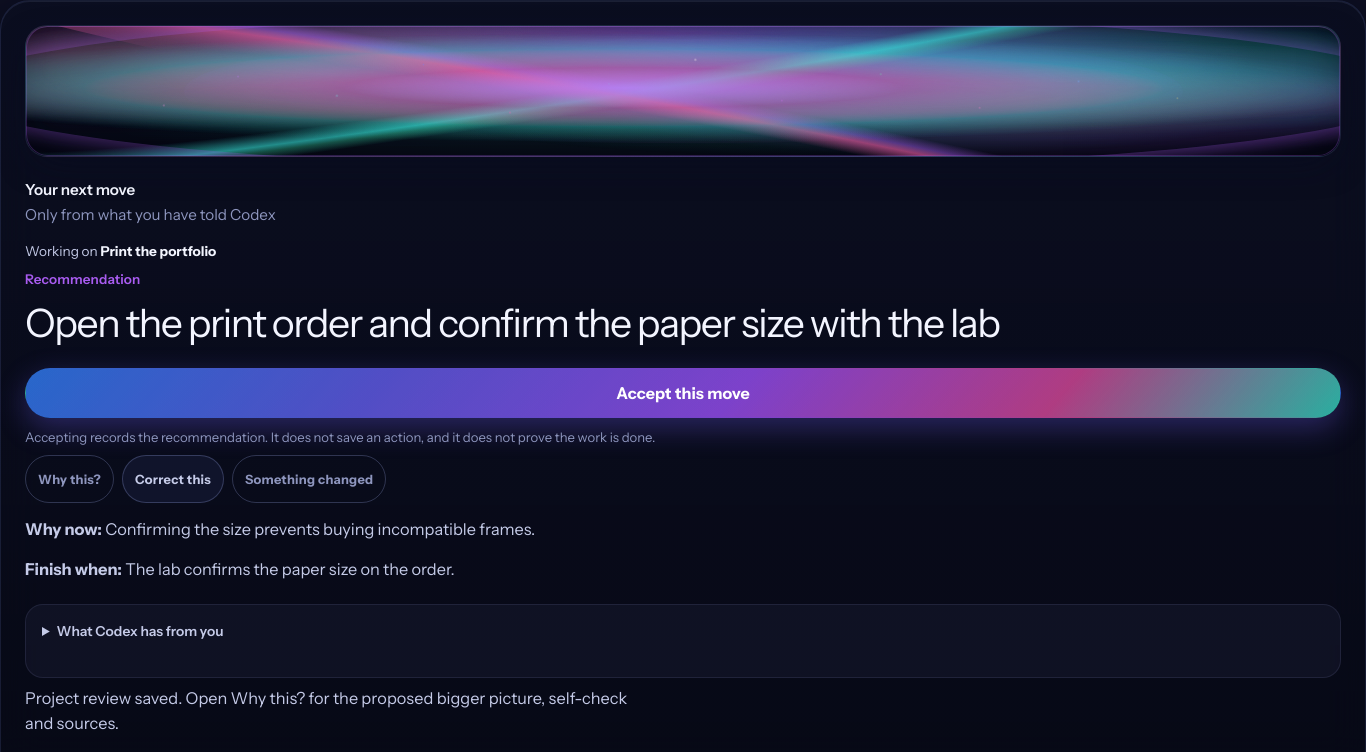
Test case: StrategicDelta — reviewed choice presentation › shows why now and the move finish condition, with alternatives behind Why this
Expected: the text "Open the print order and confirm the paper size with the lab" is shown, left=25, top=299, right=1000, bottom=347
Expected: the element named "Why now and finish condition" shows "The lab confirms the paper size on the order.", left=125, top=558, right=455, bottom=578
Click the button "Why this?" at (70, 479), box left=25, top=455, right=114, bottom=503
(page scrolled)
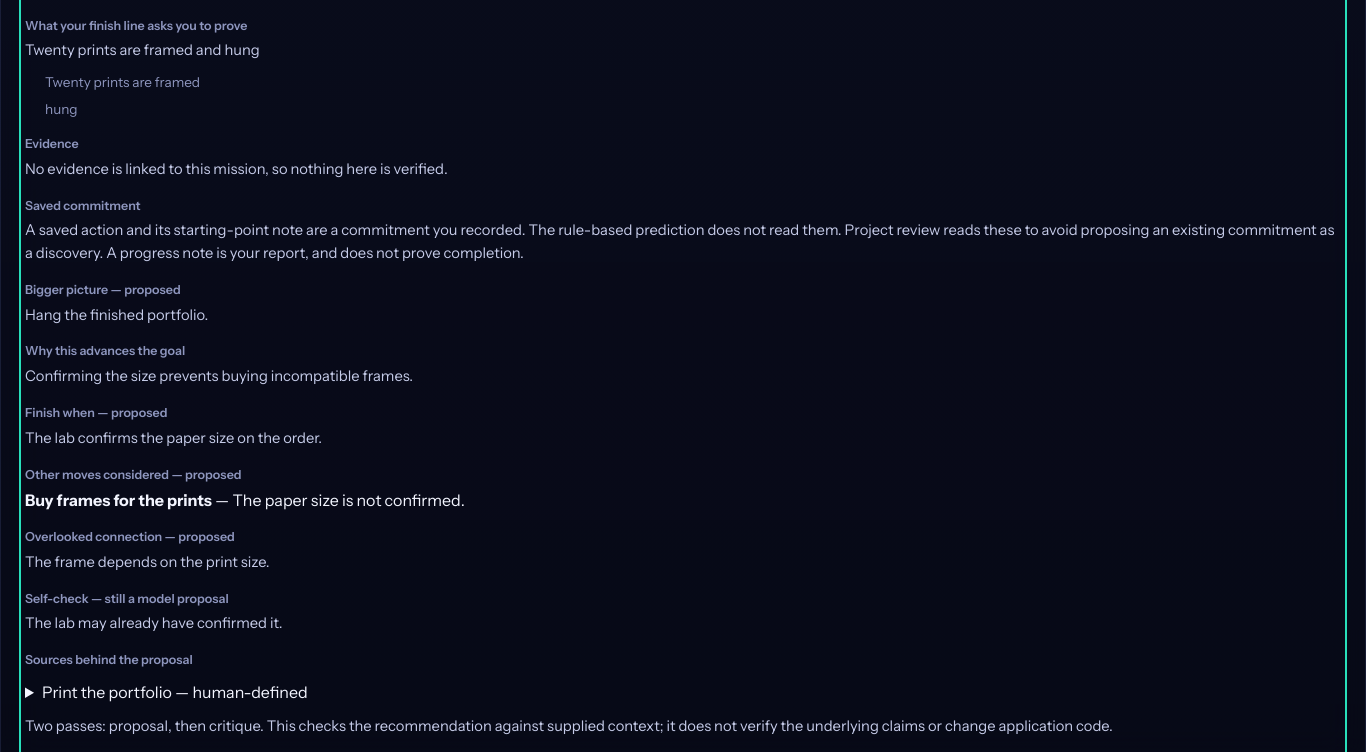
Result: the text "Buy frames for the prints" is shown at left=25, top=490, right=212, bottom=510
